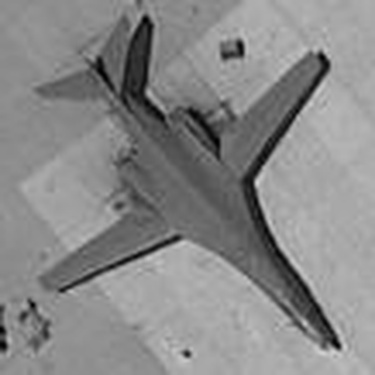airplane: (7, 4, 344, 363)
